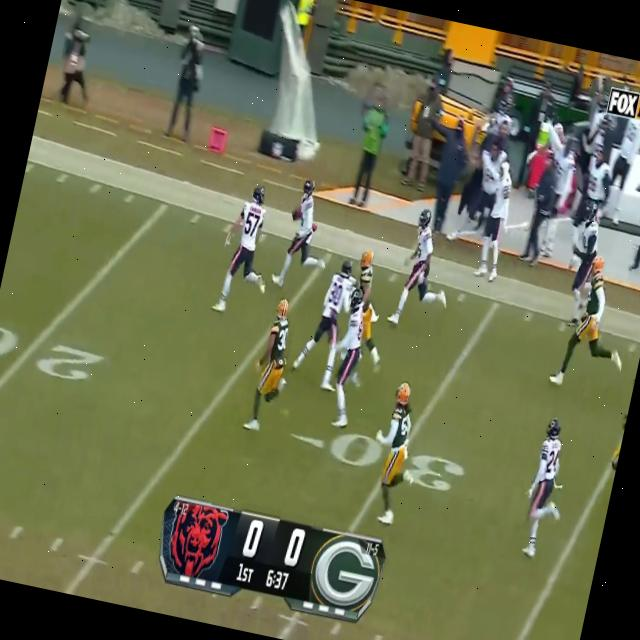Player: (238, 290, 306, 440), (514, 413, 580, 565), (208, 179, 276, 320), (297, 253, 363, 398), (555, 250, 621, 394), (320, 279, 378, 432), (364, 378, 422, 526), (266, 174, 332, 293), (388, 204, 449, 330), (564, 200, 604, 314)
